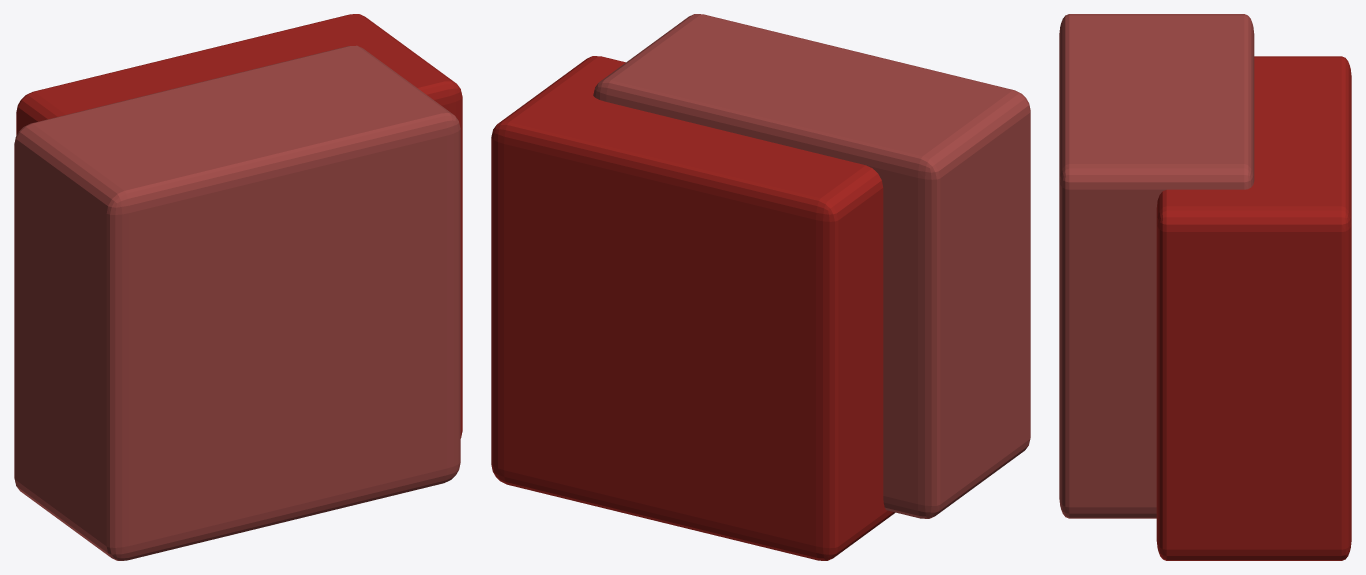
The model's file is Sub_Highlight.dae.
3 views of the same model, side by side, from view 1: azimuth 30°, elevation 25°; view 2: azimuth 150°, elevation 25°; view 3: azimuth 270°, elevation 25° (orthographic). The views are drawn at different scales.
Visible parts, largest first — view 1: Cube_001, Cube; view 2: Cube, Cube_001; view 3: Cube, Cube_001.
Part boxes in pixels (box(x1,y1,x2,y2)): Cube_001: box(14, 45, 460, 560); Cube: box(16, 14, 462, 438); Cube: box(491, 56, 895, 560); Cube_001: box(593, 14, 1030, 518); Cube: box(1156, 56, 1351, 560); Cube_001: box(1059, 14, 1254, 518).
Size of the model in its own units: 2.3 by 1.5 by 2.1.
